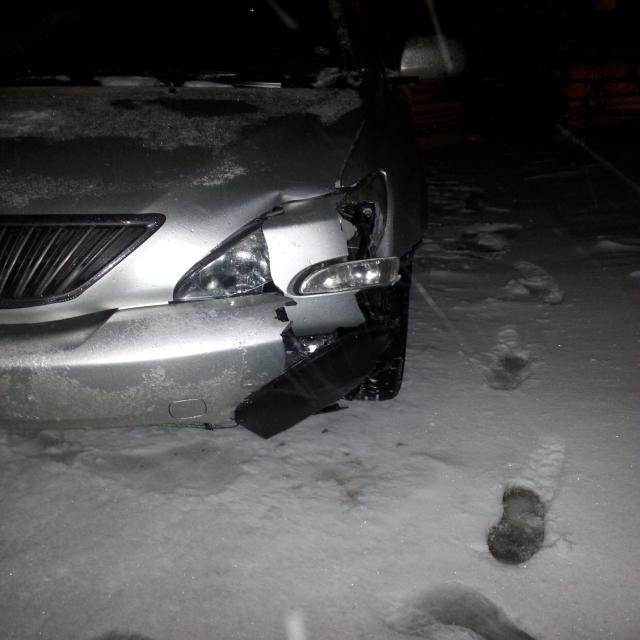crush: (221, 166, 413, 441)
